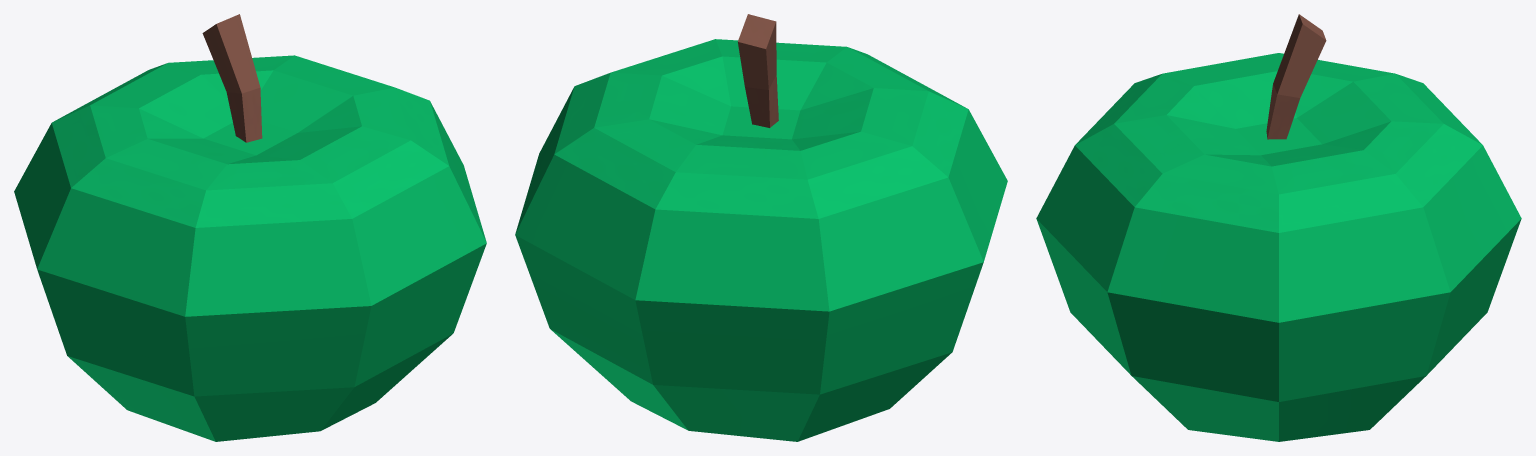
Rendered from apple_001.obj.
3 renders of one model, left to right at view 1: azimuth 30°, elevation 25°; view 2: azimuth 150°, elevation 25°; view 3: azimuth 270°, elevation 25°, orthographic. The views are drawn at different scales.
Parts seen in each view (by area): view 1: apple_001; view 2: apple_001; view 3: apple_001.
Boxes of the visible parts, x1,y1,x2,y2 form: apple_001: (14,14,486,441); apple_001: (515,14,1007,441); apple_001: (1036,14,1521,441).
Bounding box in the file's own units: 0.0858 × 0.0721 × 0.0843.
